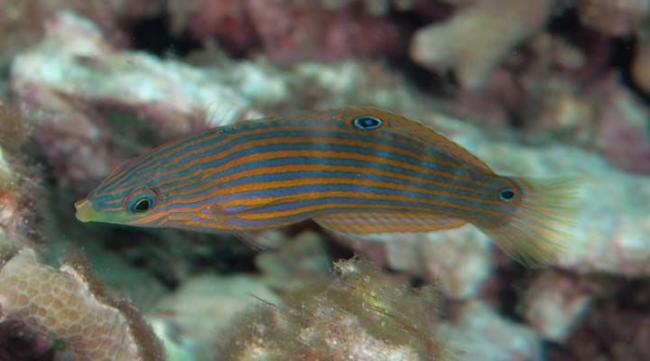fish: (73, 106, 587, 270)
